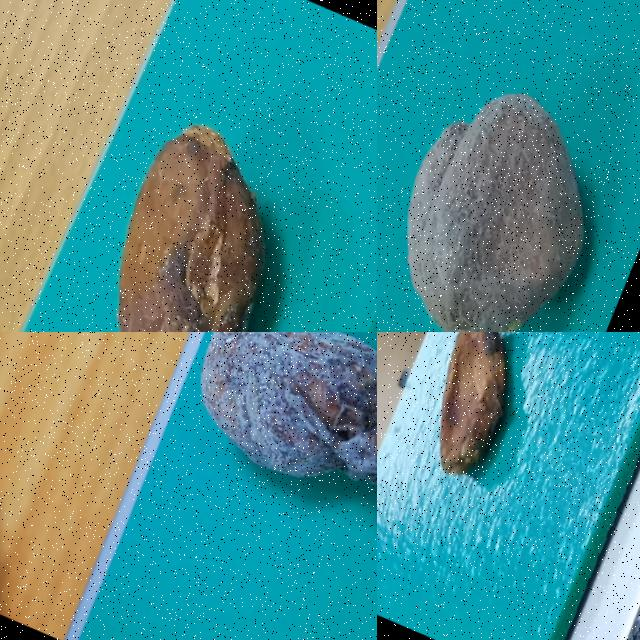Agglomerated_cocoabeans: (377, 0, 639, 331), (137, 332, 376, 622)
Fine_cocoabeans: (4, 24, 376, 331)
Flat_cocoabeans: (377, 332, 604, 575)
